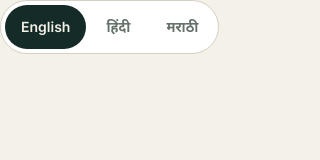
Test: LanguageSwitcher › switches the language and the document lang
The image size is (320, 160).
Click the radio button labelled "मराठी" at (182,27), box top-left (150, 5), bottom-right (214, 49)
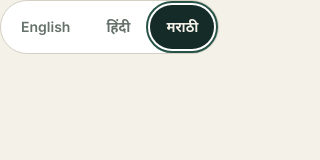
expect the radio button labelled "मराठी" is checked: met, box top-left (150, 5), bottom-right (214, 49)
